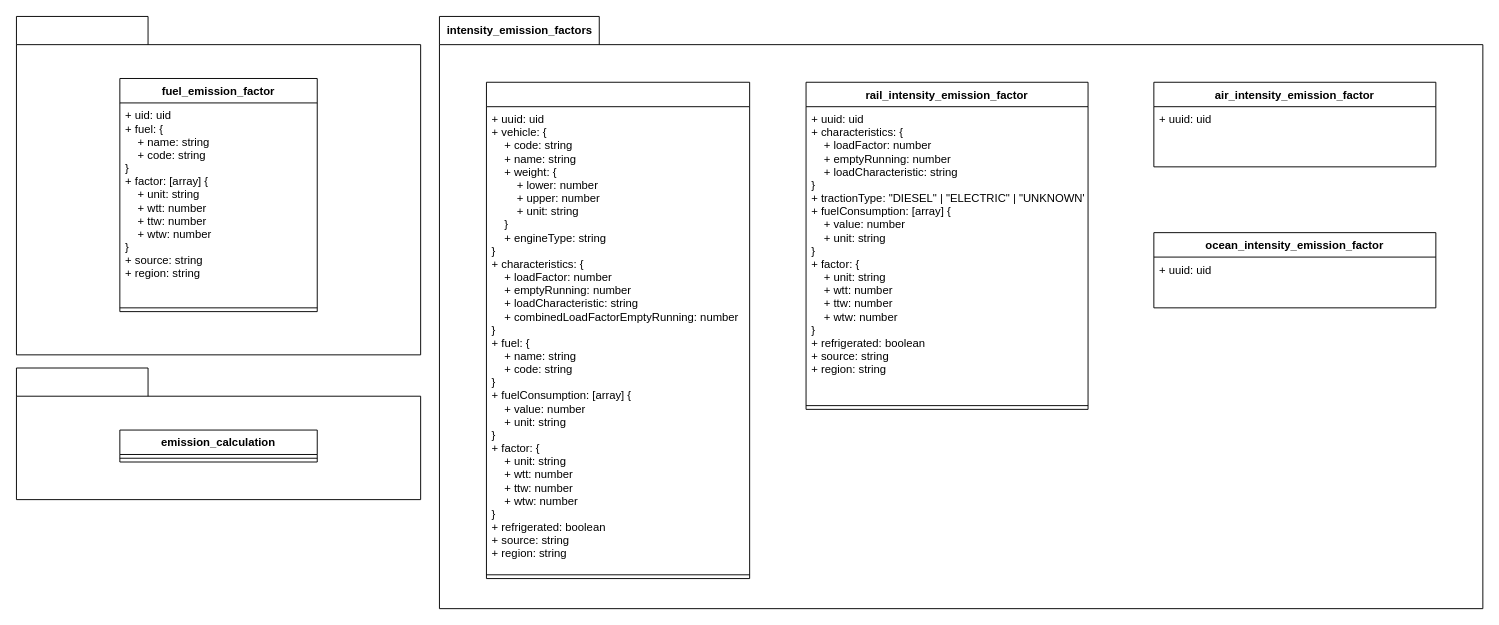
The diagram is 1499 pixels wide and 625 high, and some of its shapes have lost their labels. The box of each missing label's shape, as (x1, y1, x2, y2) in pixels:
emission_calculations: (16, 367, 421, 500)
fuel_emission_factors: (16, 16, 421, 355)
road_intensity_emission_factor: (486, 81, 750, 579)
